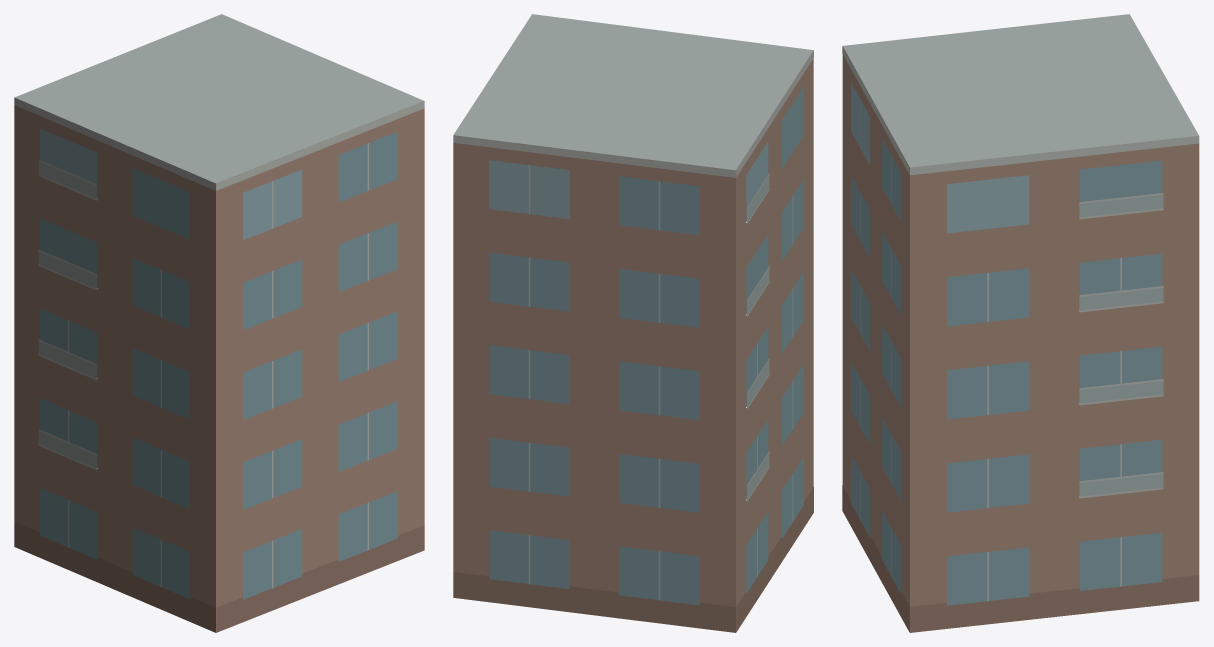
Rendered from survey-upis-32715360.glb.
3 views of the same model, side by side, from view 1: azimuth 30°, elevation 25°; view 2: azimuth 150°, elevation 25°; view 3: azimuth 270°, elevation 25° (orthographic). The views are drawn at different scales.
Visible parts, largest first — view 1: survey-upis-32715360.tmp; view 2: survey-upis-32715360.tmp; view 3: survey-upis-32715360.tmp.
Part boxes in pixels (box(x1,y1,x2,y2)): survey-upis-32715360.tmp: box(14, 14, 424, 632); survey-upis-32715360.tmp: box(453, 14, 813, 632); survey-upis-32715360.tmp: box(842, 14, 1199, 632).
Size of the model in its own units: 10.46 by 14.75 by 10.26.
